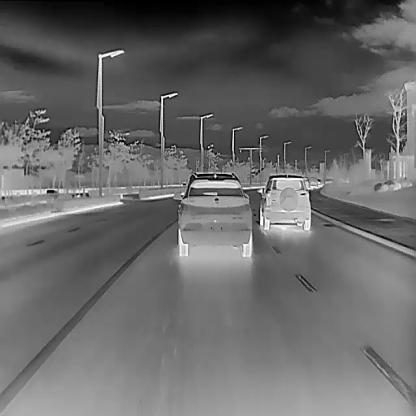car: (172, 171, 252, 256), (257, 173, 311, 229), (302, 175, 310, 188)
